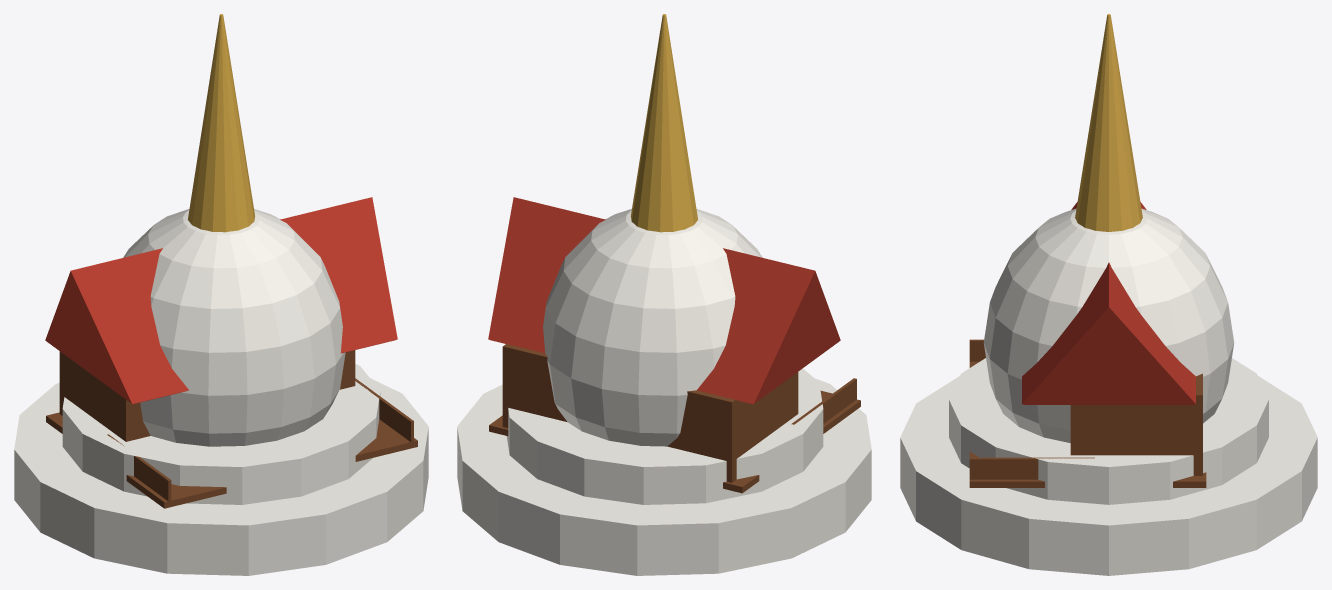
Rendered from thai.glb.
3 renders of one model, left to right at view 1: azimuth 30°, elevation 25°; view 2: azimuth 150°, elevation 25°; view 3: azimuth 270°, elevation 25°, orthographic.
Visible parts, largest first — view 1: Bell, Base1, HouseRoof, Base2, Spire.001, Room, Platform, Rail, Rail.001; view 2: Base1, Bell, HouseRoof, Base2, Room, Spire.001, Platform, Rail; view 3: Base1, Bell, Base2, HouseRoof, Spire.001, Room, Rail.001, Platform.
Boxes of the visible parts, bbox=[...] form: Bell: bbox=[123, 209, 345, 446]; Base1: bbox=[14, 378, 428, 575]; HouseRoof: bbox=[45, 197, 397, 404]; Base2: bbox=[62, 364, 380, 504]; Spire.001: bbox=[188, 14, 254, 232]; Room: bbox=[59, 350, 355, 441]; Platform: bbox=[46, 412, 417, 508]; Rail: bbox=[107, 434, 171, 501]; Rail.001: bbox=[355, 378, 413, 441]; Base1: bbox=[457, 378, 871, 575]; Bell: bbox=[543, 209, 762, 446]; HouseRoof: bbox=[488, 197, 840, 404]; Base2: bbox=[506, 368, 823, 504]; Room: bbox=[502, 344, 798, 482]; Spire.001: bbox=[631, 14, 697, 232]; Platform: bbox=[489, 390, 860, 493]; Rail: bbox=[791, 378, 856, 424]; Base1: bbox=[900, 376, 1317, 575]; Bell: bbox=[983, 208, 1234, 442]; Base2: bbox=[949, 358, 1268, 504]; HouseRoof: bbox=[1022, 202, 1195, 404]; Spire.001: bbox=[1075, 14, 1142, 231]; Room: bbox=[1070, 373, 1202, 475]; Rail.001: bbox=[969, 457, 1094, 479]; Platform: bbox=[969, 361, 1206, 487].
Bounding box in the file's own units: 12 × 15.19 × 12.
